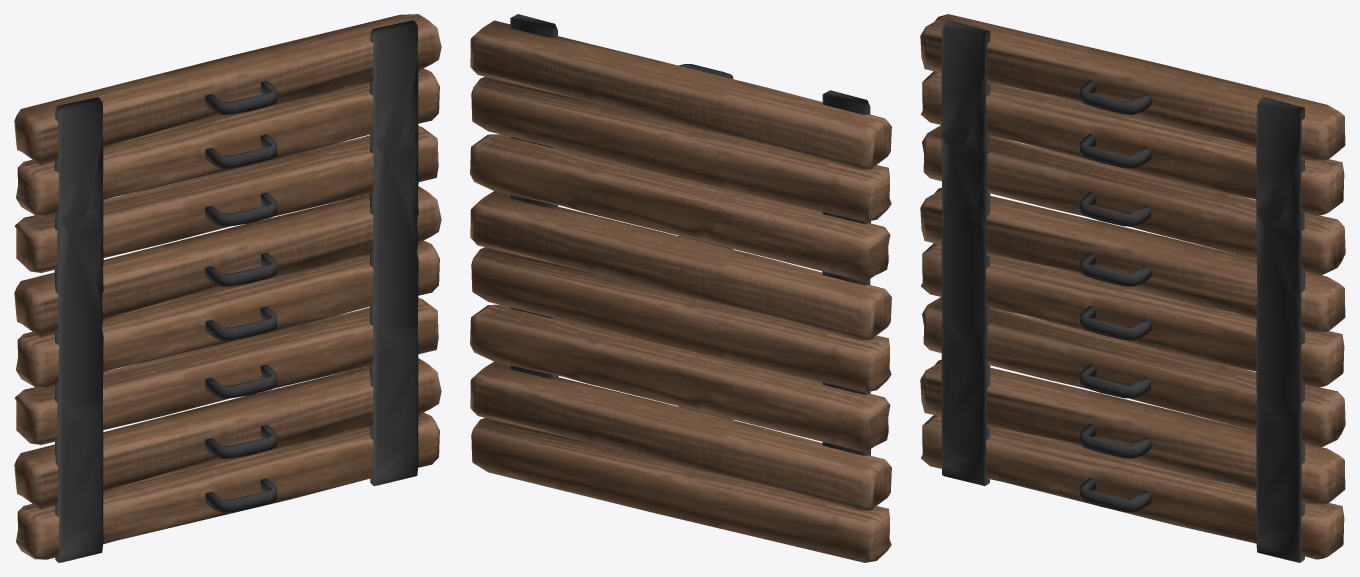
Rendered from SM_wood_metal_straight_stairs.fbx.
3 renders of one model, left to right at view 1: azimuth 30°, elevation 25°; view 2: azimuth 150°, elevation 25°; view 3: azimuth 330°, elevation 25°, orthographic.
Parts seen in each view (by area): view 1: wood_metal_straight_stairs; view 2: wood_metal_straight_stairs; view 3: wood_metal_straight_stairs.
Part boxes in pixels (x1=…): wood_metal_straight_stairs: x1=14, y1=14, x2=441, y2=562; wood_metal_straight_stairs: x1=470, y1=14, x2=891, y2=562; wood_metal_straight_stairs: x1=920, y1=14, x2=1345, y2=562.
Size of the model in its own units: 321 by 342 by 53.79.
